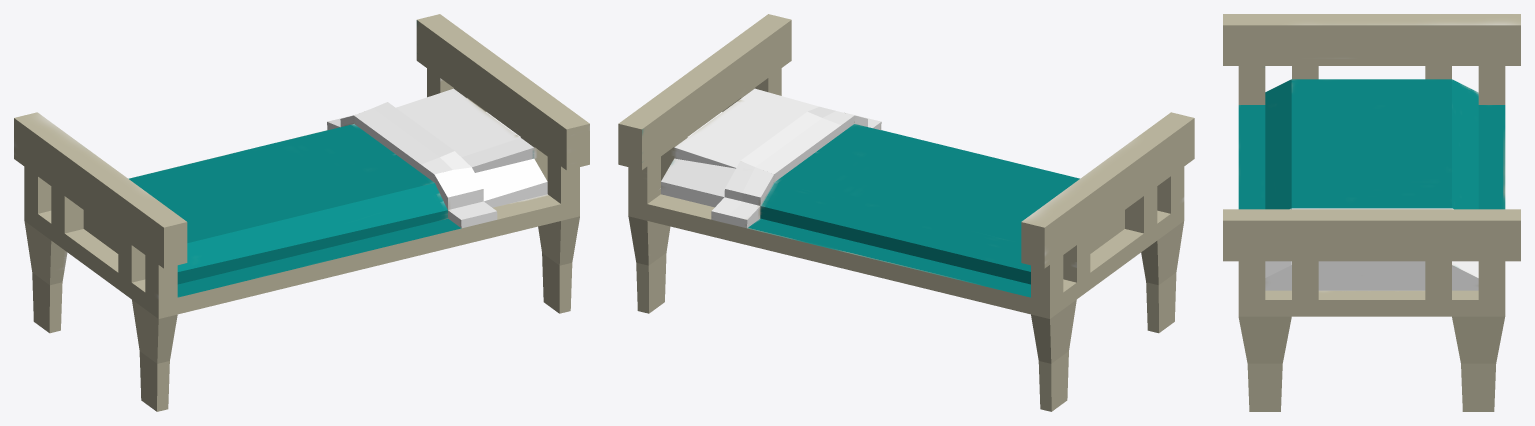
File: bed1.fbx
The picture shows the model from 3 angles, left to right: view 1: azimuth 30°, elevation 25°; view 2: azimuth 150°, elevation 25°; view 3: azimuth 270°, elevation 25°; orthographic projection.
Visible parts, largest first — view 1: Cube; view 2: Cube; view 3: Cube.
Part boxes in pixels (bbox=[...]): Cube: bbox=[14, 14, 589, 411]; Cube: bbox=[618, 14, 1194, 411]; Cube: bbox=[1223, 14, 1520, 411].
Bounding box in the file's own units: 1288 × 565 × 785.
